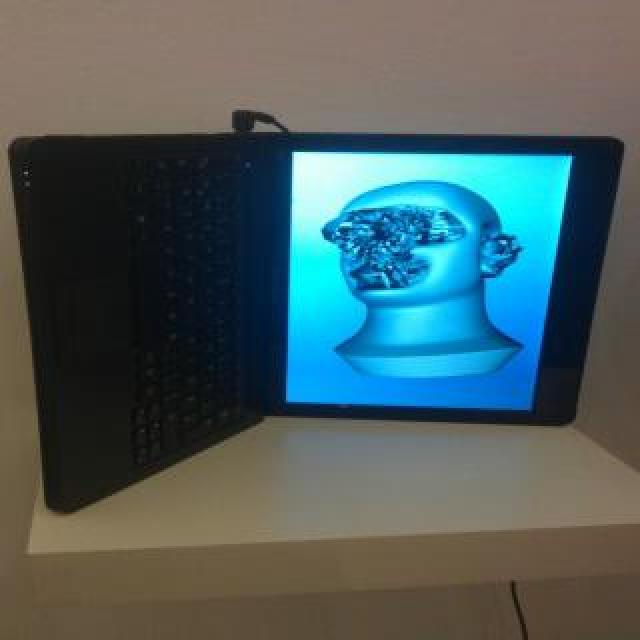laptop_computer: (0, 98, 615, 525)
